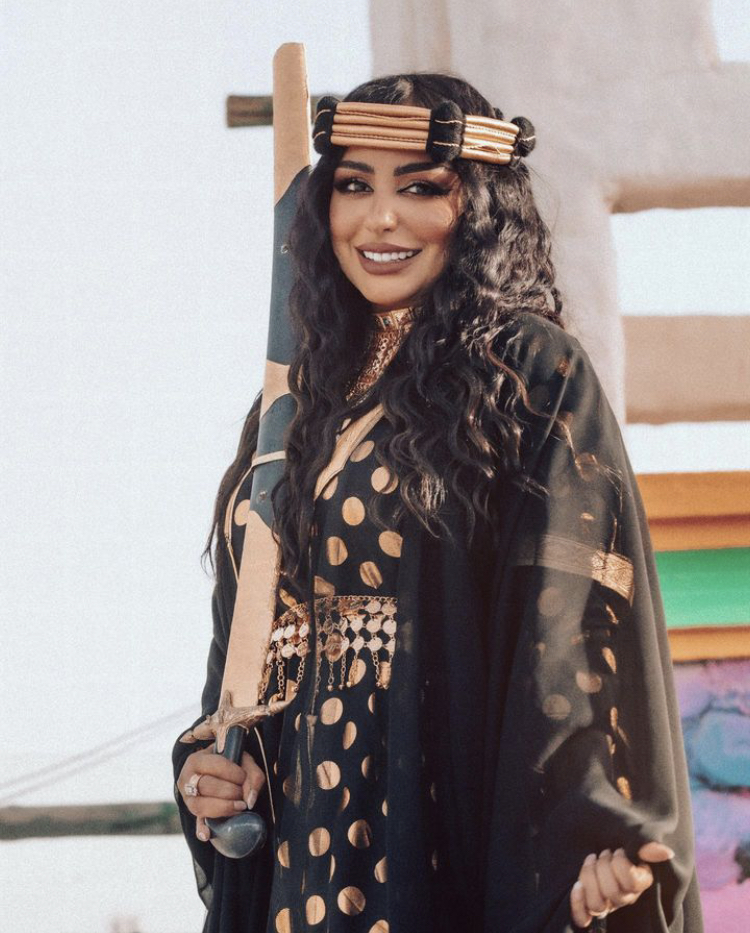Saudi_Founding_Day: (167, 29, 708, 933)
